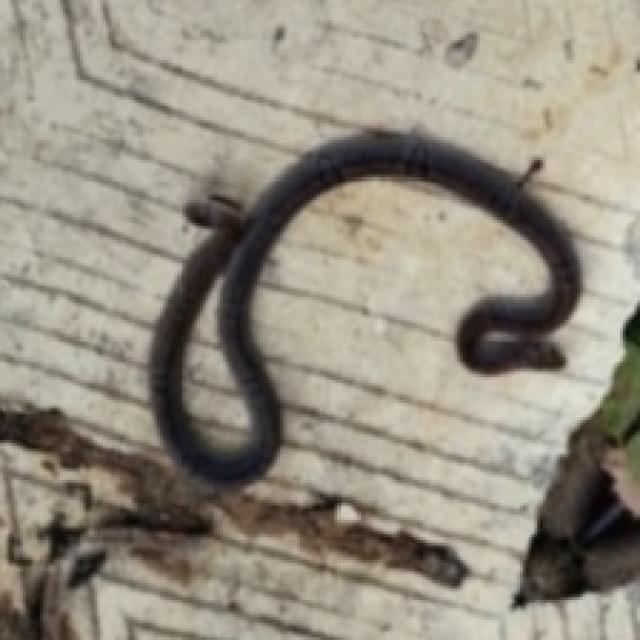northern short-headed snake: (149, 131, 577, 480), (180, 271, 249, 446)
